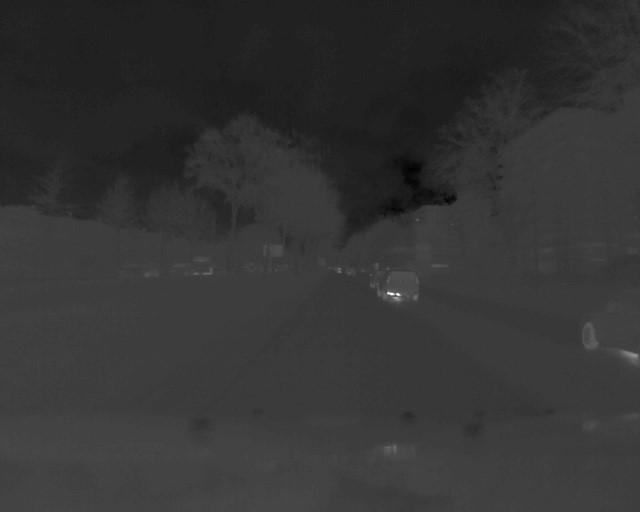car: (581, 286, 639, 359), (377, 267, 421, 305)
